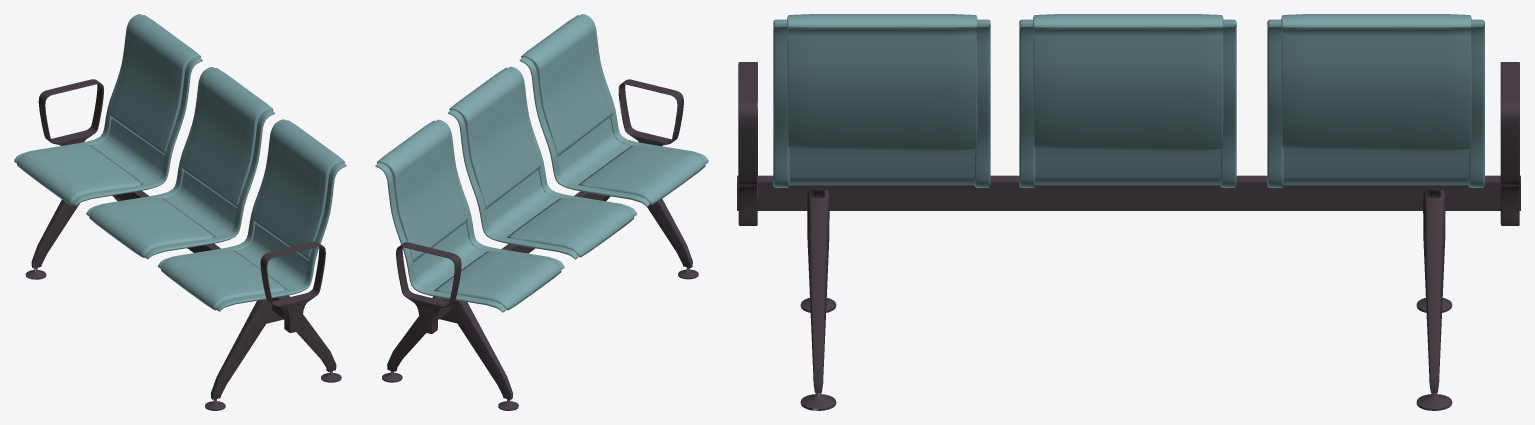
The model's file is bekleme koltuğu mavi.fbx.
3 renders of one model, left to right at view 1: azimuth 30°, elevation 25°; view 2: azimuth 150°, elevation 25°; view 3: azimuth 270°, elevation 25°, orthographic. The views are drawn at different scales.
Visible parts, largest first — view 1: defaultMaterial.001; view 2: defaultMaterial.001; view 3: defaultMaterial.001.
Boxes of the visible parts, <box> form: defaultMaterial.001: <box>14,14,346,410</box>; defaultMaterial.001: <box>375,14,708,410</box>; defaultMaterial.001: <box>737,14,1520,410</box>.
Bounding box in the file's own units: 528 × 837 × 1539.
